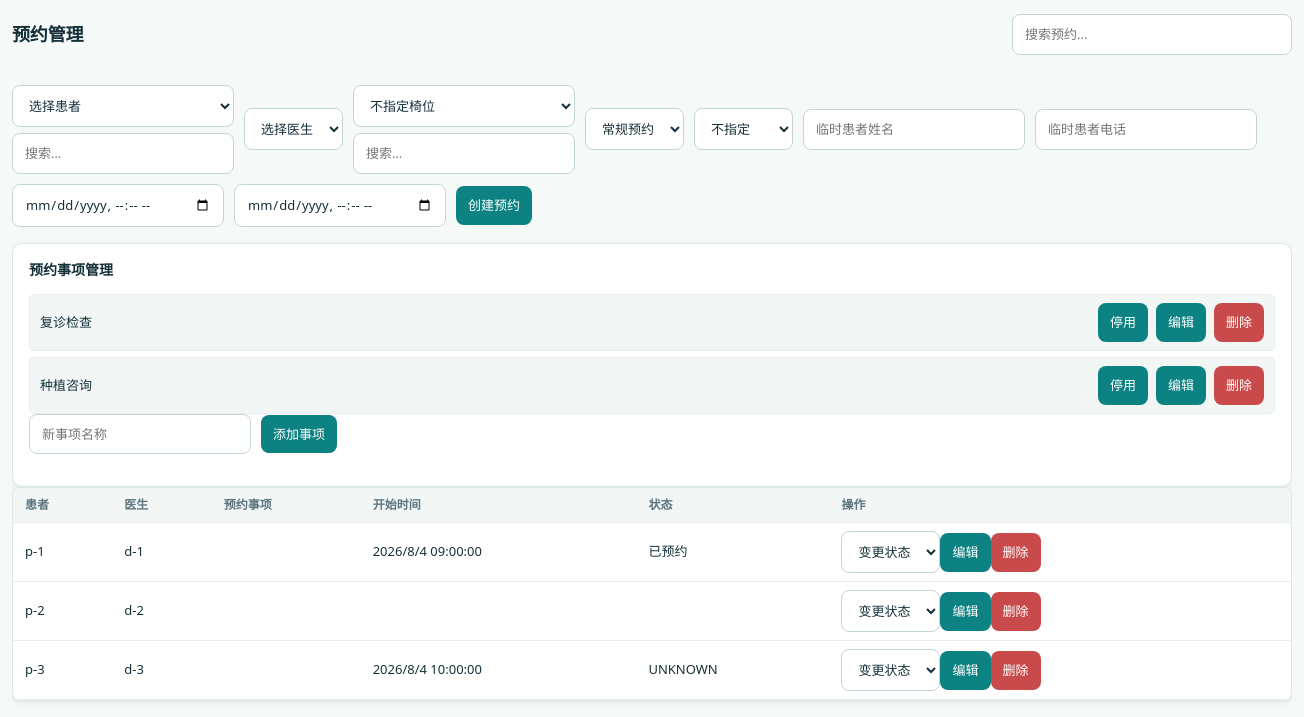
Test: AppointmentsPage › validates required fields before creating an appointment
The image size is (1304, 717).
Check: the heading "预约管理" is shown, box [12,21,83,48]
Click the button "创建预约".
click(494, 205)  # box [456,186,532,224]
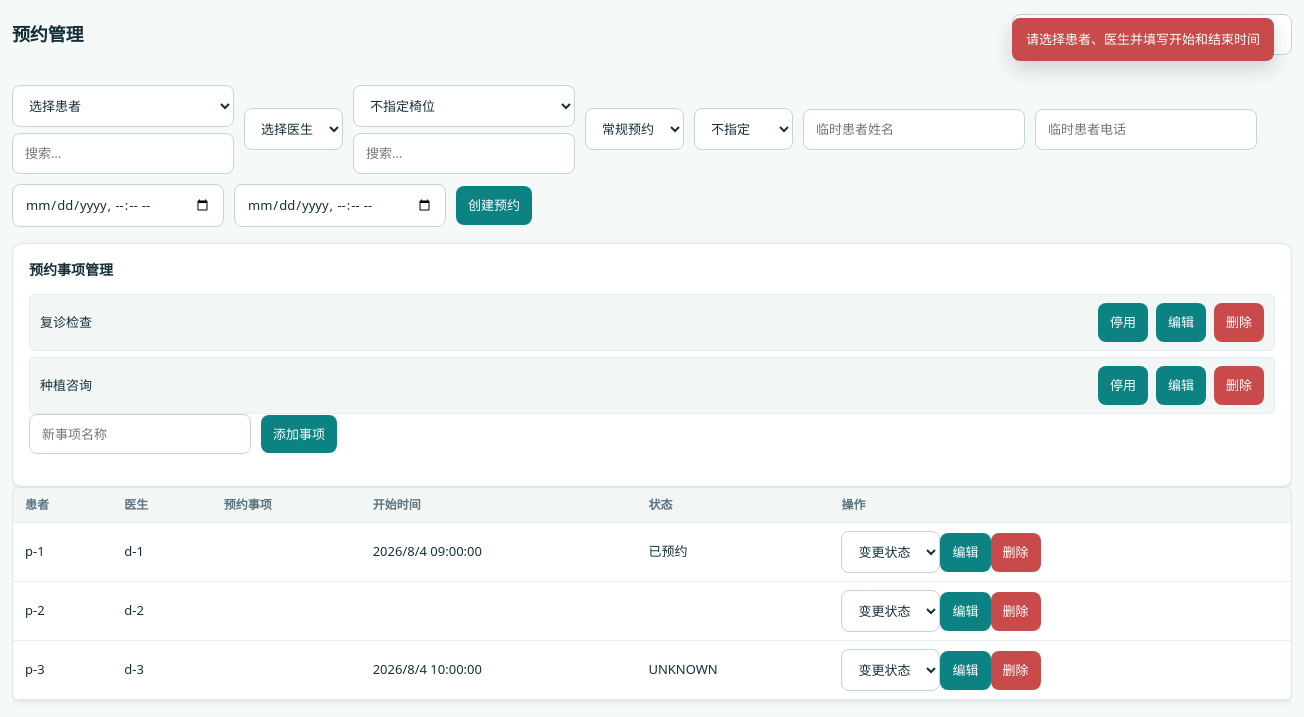
Check: the text "请选择患者、医生并填写开始和结束时间" is shown, box [1012,18,1274,61]
